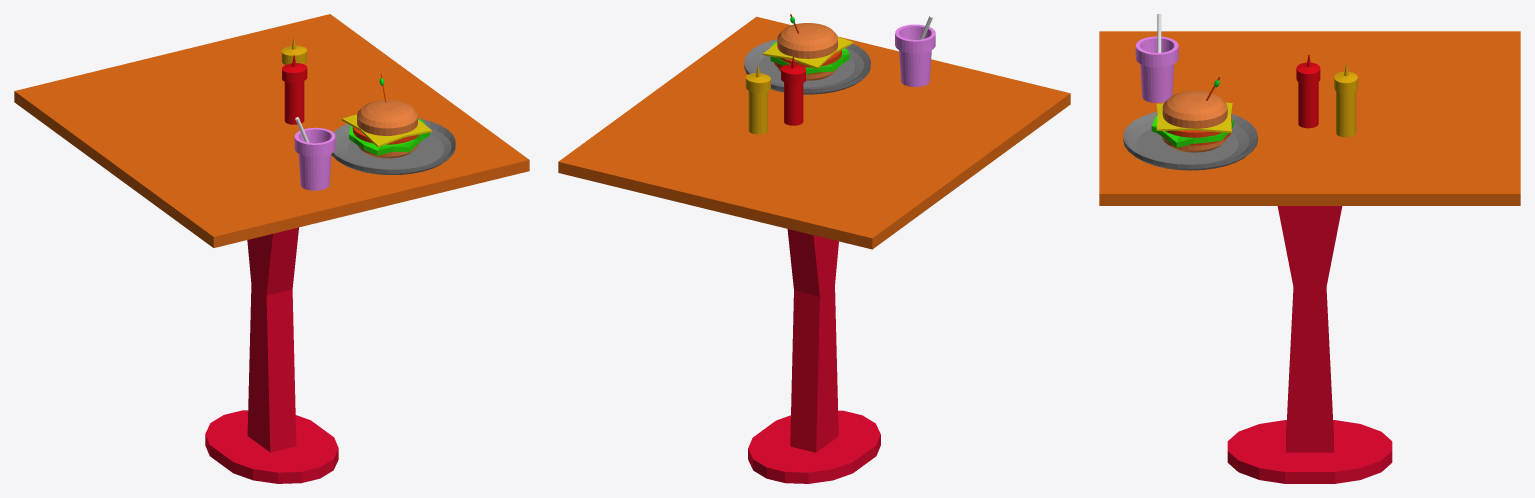
File: Table (1).fbx
3 views of the same model, side by side, from view 1: azimuth 30°, elevation 25°; view 2: azimuth 150°, elevation 25°; view 3: azimuth 270°, elevation 25° (orthographic). The views are drawn at different scales.
Parts seen in each view (by area): view 1: Cubo.001, mesa, prato, Cilindro.001, hamburger, ketchup, alface, Cubo; view 2: Cubo.001, mesa, prato, Cilindro.001, hamburger, mostarda, ketchup, Cubo; view 3: Cubo.001, mesa, prato, Cilindro.001, hamburger, ketchup, mostarda, Cubo, alface.
Boxes of the visible parts, x1,y1,x2,y2 form: Cubo.001: (14, 14, 529, 247); mesa: (205, 227, 338, 483); prato: (331, 118, 455, 174); Cilindro.001: (294, 127, 335, 190); hamburger: (357, 100, 417, 135); ketchup: (282, 55, 307, 124); alface: (349, 118, 429, 155); Cubo: (342, 114, 431, 147); Cubo.001: (558, 16, 1070, 249); mesa: (748, 229, 880, 483); prato: (744, 39, 870, 94); Cilindro.001: (895, 24, 935, 87); hamburger: (777, 23, 837, 58); mostarda: (745, 65, 770, 134); ketchup: (781, 57, 805, 125); Cubo: (763, 37, 853, 68); Cubo.001: (1099, 31, 1520, 205); mesa: (1227, 206, 1392, 483); prato: (1123, 111, 1257, 170); Cilindro.001: (1135, 36, 1178, 102); hamburger: (1162, 90, 1227, 128); ketchup: (1296, 55, 1320, 128); mostarda: (1334, 64, 1357, 137); Cubo: (1156, 102, 1232, 132); alface: (1151, 115, 1233, 147).
Size of the model in its own units: 186 by 224 by 203.
